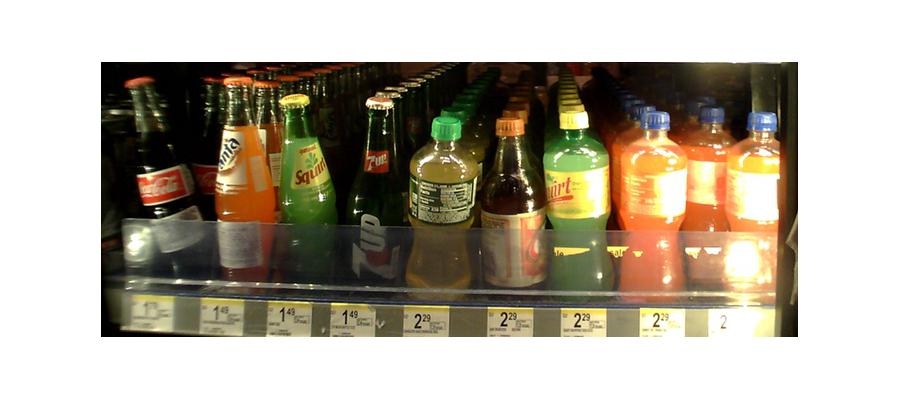bottle: (118, 86, 214, 291), (615, 100, 686, 299), (408, 110, 480, 297), (211, 75, 274, 288), (548, 92, 611, 297), (345, 93, 406, 290), (277, 88, 336, 287), (482, 108, 545, 294), (729, 113, 785, 296), (682, 104, 732, 299)
